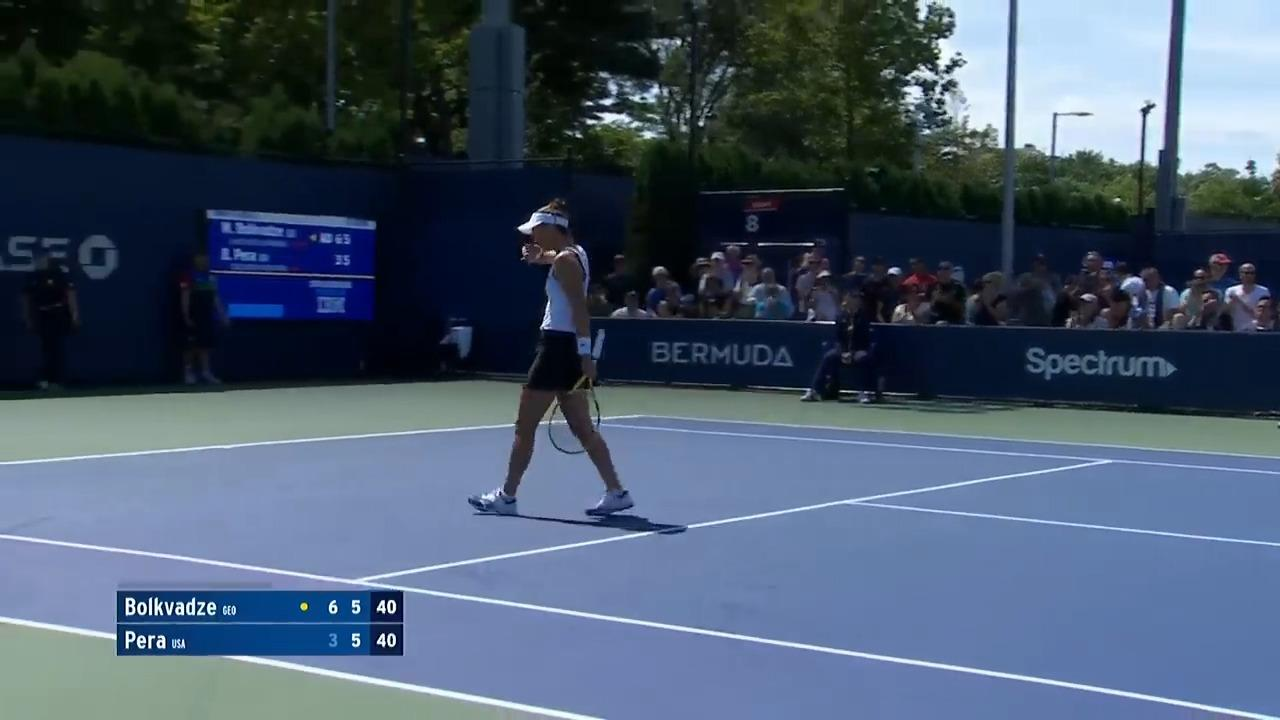tennis racket: (547, 398, 585, 454), (573, 378, 601, 429), (591, 329, 605, 360)
